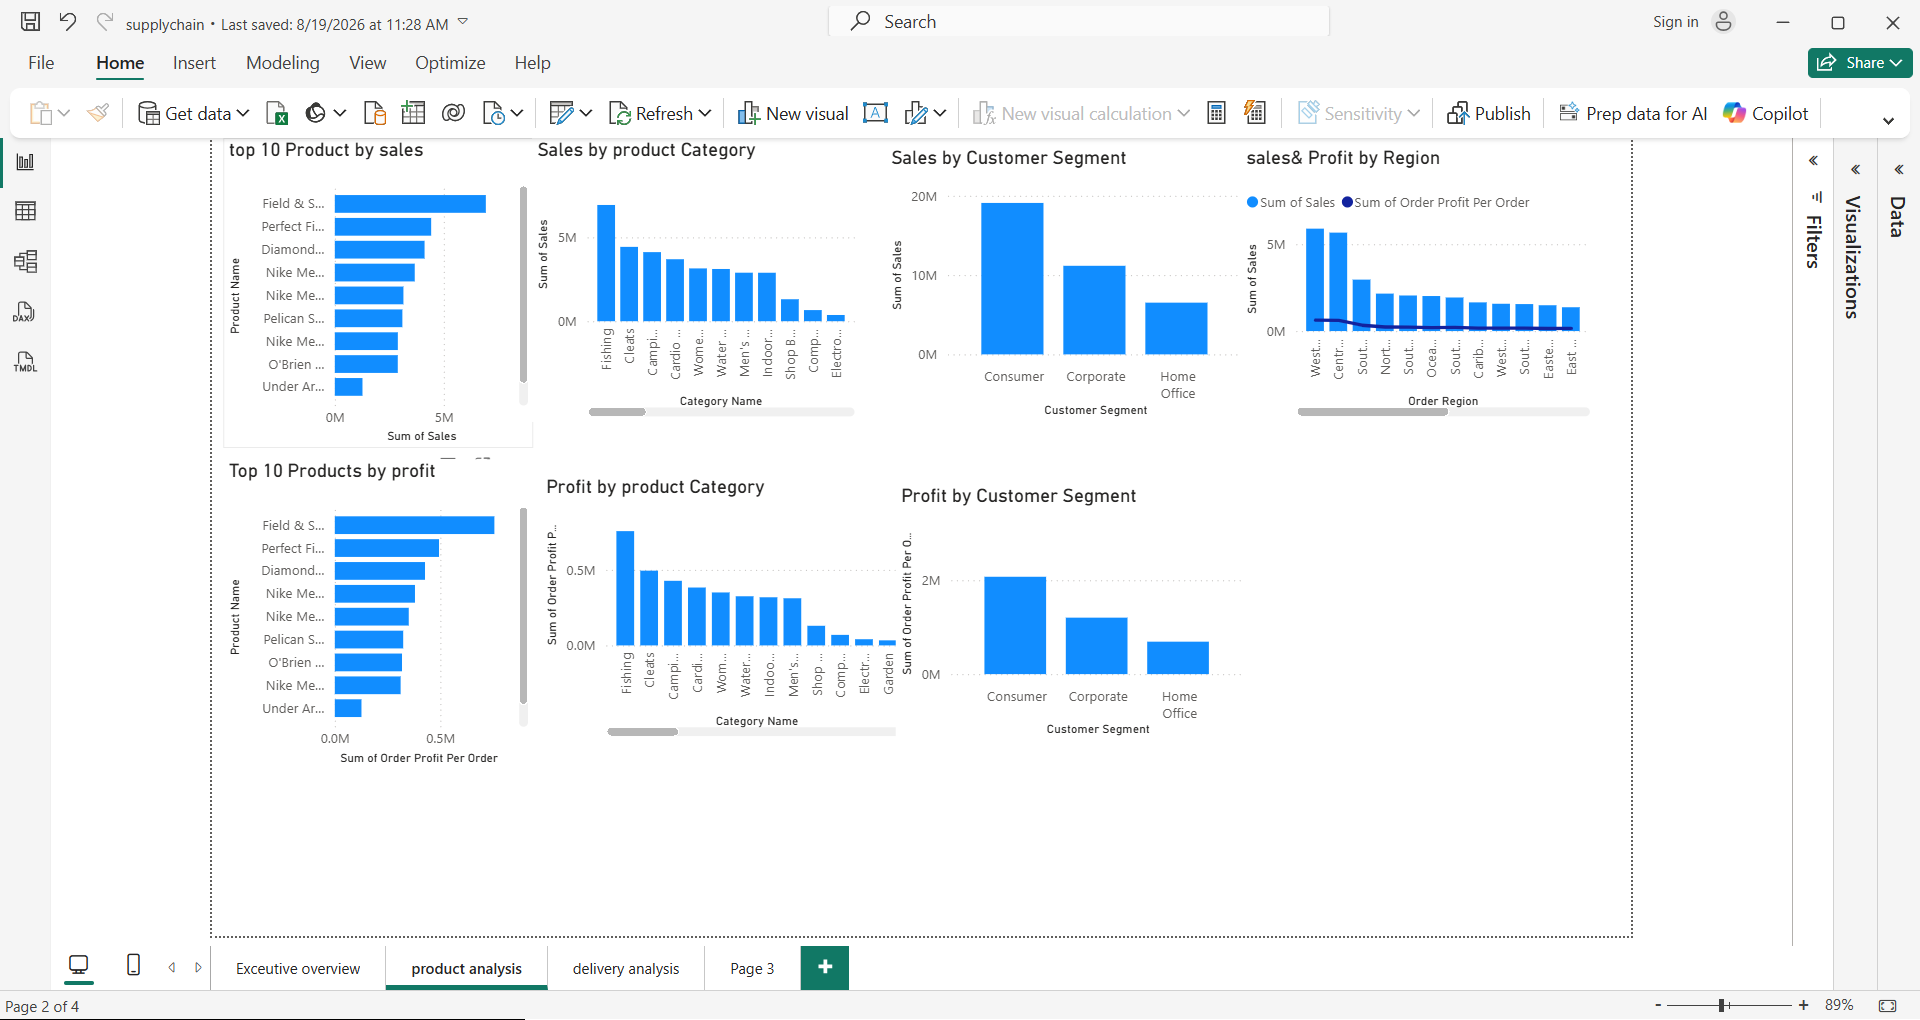

This screenshot's page, from the dashboard's own definition file:
{"tool":"powerbi","page":{"name":"product analysis","canvas":[1280,720],"ordinal":1},"visuals":[{"type":"clusteredBarChart","title":"top 10 Product by sales","fields":{"Category":["DataCoSupplyChainDataset_Final.Product Name"],"Y":["Sum(DataCoSupplyChainDataset_Final.Sales)"]},"box":[10,0,280,280],"z":0},{"type":"clusteredBarChart","title":"Top 10 Products by profit","fields":{"Category":["DataCoSupplyChainDataset_Final.Product Name"],"Y":["Sum(DataCoSupplyChainDataset_Final.Order Profit Per Order)"]},"box":[10,290,280,280],"z":1000},{"type":"clusteredColumnChart","title":"Sales by product Category ","fields":{"Category":["DataCoSupplyChainDataset_Final.Category Name"],"Y":["Sum(DataCoSupplyChainDataset_Final.Sales)"]},"box":[288,0,296,256],"z":2000},{"type":"clusteredColumnChart","title":" Profit by product Category","fields":{"Category":["DataCoSupplyChainDataset_Final.Category Name"],"Y":["Sum(DataCoSupplyChainDataset_Final.Order Profit Per Order)"]},"box":[296,304,336,240],"z":3000},{"type":"clusteredColumnChart","title":"Sales by Customer Segment","fields":{"Category":["DataCoSupplyChainDataset_Final.Customer Segment"],"Y":["Sum(DataCoSupplyChainDataset_Final.Sales)"]},"box":[608,8,328,248],"z":4000},{"type":"clusteredColumnChart","title":" Profit  by Customer Segment","fields":{"Category":["DataCoSupplyChainDataset_Final.Customer Segment"],"Y":["Sum(DataCoSupplyChainDataset_Final.Order Profit Per Order)"]},"box":[616,312,320,232],"z":5000},{"type":"lineClusteredColumnComboChart","title":"sales& Profit by Region","fields":{"Category":["DataCoSupplyChainDataset_Final.Order Region"],"Y2":["Sum(DataCoSupplyChainDataset_Final.Order Profit Per Order)"],"Y":["Sum(DataCoSupplyChainDataset_Final.Sales)"]},"box":[928,8,320,248],"z":6000}]}

Visuals, with their boxes on the page's 1280x720 design canvas (x1, y1, x2, y2). These are canvas units, not pixel positions in the 1920x1020 screenshot, which may show the page scaled, cropped or inside an application window:
"top 10 Product by sales" clusteredBarChart: BBox(10, 0, 290, 280)
"Top 10 Products by profit" clusteredBarChart: BBox(10, 290, 290, 570)
"Sales by product Category " clusteredColumnChart: BBox(288, 0, 584, 256)
" Profit by product Category" clusteredColumnChart: BBox(296, 304, 632, 544)
"Sales by Customer Segment" clusteredColumnChart: BBox(608, 8, 936, 256)
" Profit  by Customer Segment" clusteredColumnChart: BBox(616, 312, 936, 544)
"sales& Profit by Region" lineClusteredColumnComboChart: BBox(928, 8, 1248, 256)
